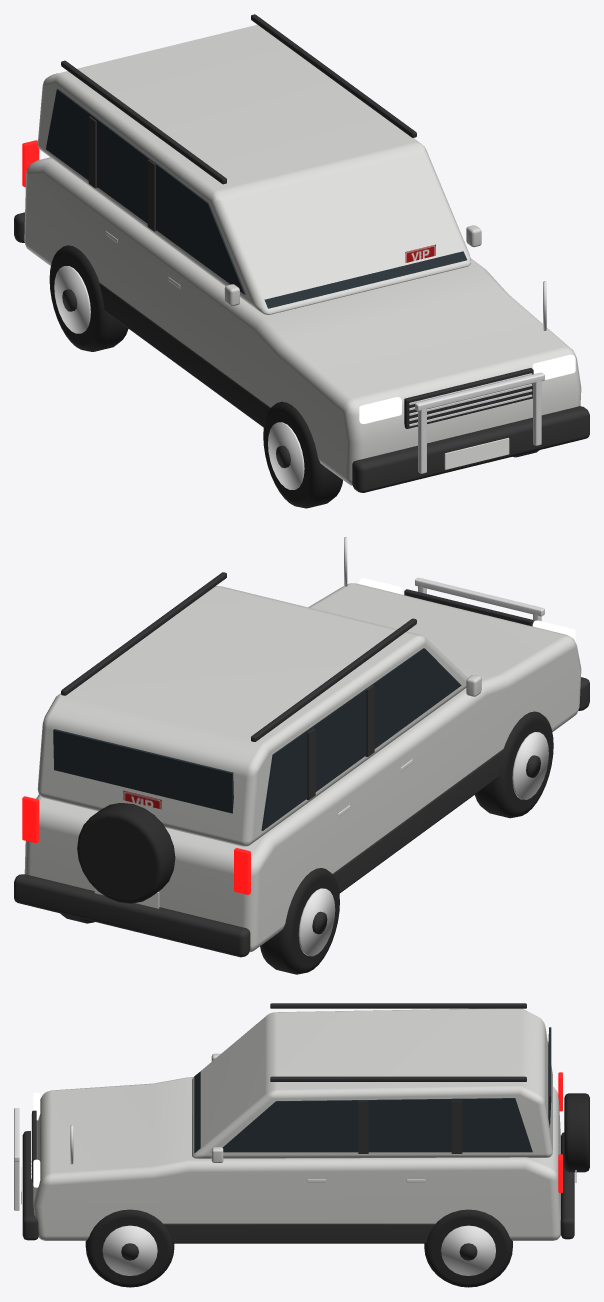
File: suv.glb
3 renders of one model, top to bottom at view 1: azimuth 30°, elevation 25°; view 2: azimuth 150°, elevation 25°; view 3: azimuth 270°, elevation 25°, orthographic. The views are drawn at different scales.
Visible parts, largest first — view 1: SUV / Pearl white paint, SUV / Tinted glass, SUV / Black cladding, SUV / Chrome, SUV / Tyre rubber, SUV / Chassis black, SUV / Headlamp, SUV / Number plate; view 2: SUV / Pearl white paint, SUV / Tinted glass, SUV / Tyre rubber, SUV / Black cladding, SUV / Chrome, SUV / Chassis black, SUV / Lamp red, SUV / Headlamp; view 3: SUV / Pearl white paint, SUV / Tinted glass, SUV / Black cladding, SUV / Tyre rubber, SUV / Chrome, SUV / Chassis black, SUV / Headlamp, SUV / Lamp red.
Boxes of the visible parts, left/top/right/bottom form: SUV / Pearl white paint: left=24, top=24, right=581, bottom=485; SUV / Tinted glass: left=46, top=73, right=466, bottom=308; SUV / Black cladding: left=14, top=116, right=589, bottom=492; SUV / Chrome: left=54, top=231, right=544, bottom=489; SUV / Tyre rubber: left=49, top=245, right=539, bottom=508; SUV / Chassis black: left=61, top=14, right=533, bottom=468; SUV / Headlamp: left=359, top=354, right=575, bottom=423; SUV / Number plate: left=444, top=438, right=509, bottom=469; SUV / Pearl white paint: left=24, top=583, right=581, bottom=952; SUV / Tinted glass: left=53, top=648, right=461, bottom=830; SUV / Tyre rubber: left=60, top=711, right=553, bottom=974; SUV / Black cladding: left=14, top=677, right=589, bottom=957; SUV / Chrome: left=298, top=577, right=548, bottom=956; SUV / Chassis black: left=61, top=572, right=540, bottom=934; SUV / Lamp red: left=22, top=796, right=250, bottom=894; SUV / Headlamp: left=359, top=578, right=575, bottom=641; SUV / Pearl white paint: left=33, top=1008, right=560, bottom=1240; SUV / Tinted glass: left=194, top=1027, right=551, bottom=1153; SUV / Black cladding: left=22, top=1100, right=574, bottom=1243; SUV / Tyre rubber: left=85, top=1093, right=589, bottom=1287; SUV / Chrome: left=14, top=1108, right=495, bottom=1275; SUV / Chassis black: left=32, top=1003, right=526, bottom=1260; SUV / Headlamp: left=33, top=1092, right=40, bottom=1187; SUV / Lamp red: left=558, top=1072, right=562, bottom=1192.
Size of the model in its own units: 1.99 by 1.92 by 4.94.
Materials: 10 (1 with a texture image).
